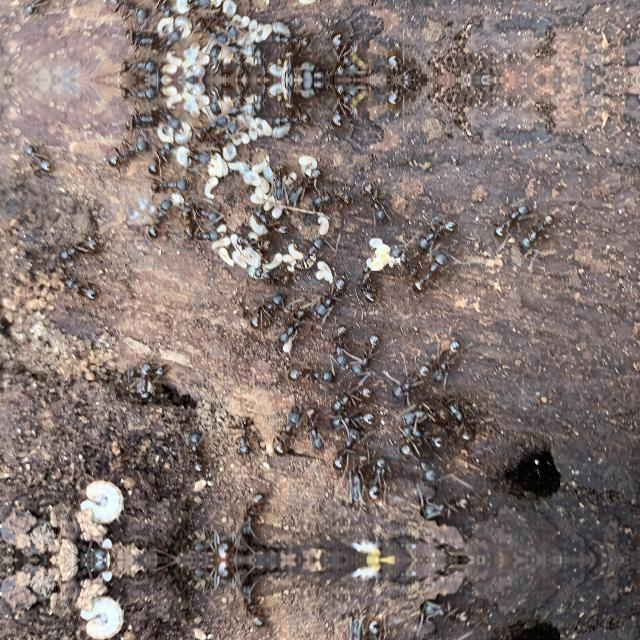Apheanogaster: (400, 406, 450, 454), (394, 438, 446, 484), (228, 486, 270, 542), (228, 578, 270, 634), (427, 331, 468, 385), (409, 249, 455, 297), (516, 210, 564, 256), (439, 393, 481, 445), (178, 423, 216, 479), (324, 80, 366, 130), (324, 30, 366, 80), (266, 404, 304, 458), (272, 303, 314, 351), (282, 232, 330, 274), (328, 425, 368, 475), (346, 328, 386, 378), (313, 270, 353, 320), (356, 176, 394, 228), (243, 288, 291, 329), (50, 270, 104, 306), (486, 199, 532, 241), (50, 230, 106, 264), (411, 214, 461, 252), (284, 162, 324, 208), (175, 193, 229, 227), (324, 321, 358, 373), (390, 360, 434, 400), (361, 451, 394, 504), (138, 197, 176, 243), (224, 410, 258, 460), (352, 255, 384, 308), (13, 137, 57, 175), (282, 360, 342, 386), (113, 362, 173, 388), (103, 137, 151, 169), (376, 80, 426, 110), (376, 50, 426, 80), (179, 217, 227, 247), (300, 406, 328, 456), (144, 138, 178, 176), (190, 113, 232, 143), (190, 17, 232, 47), (325, 406, 381, 428), (247, 80, 276, 122), (247, 38, 276, 80), (388, 239, 420, 277), (178, 145, 216, 177), (116, 80, 164, 104), (116, 56, 164, 80), (134, 357, 156, 409), (309, 187, 356, 211), (261, 158, 285, 204), (224, 234, 278, 254), (150, 102, 183, 134), (103, 0, 151, 22), (150, 26, 183, 58), (13, 0, 57, 22), (143, 176, 191, 196), (122, 110, 158, 136), (122, 24, 158, 50), (208, 532, 240, 560), (231, 80, 259, 112), (208, 560, 240, 588), (231, 48, 259, 80), (268, 111, 314, 129), (268, 31, 314, 49), (360, 616, 392, 640), (208, 80, 230, 114), (208, 46, 230, 80), (280, 80, 300, 116), (280, 44, 300, 80), (144, 0, 178, 20), (177, 0, 214, 14)
